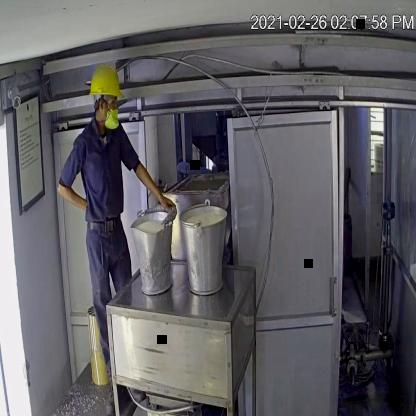helmet: (88, 49, 126, 110)
